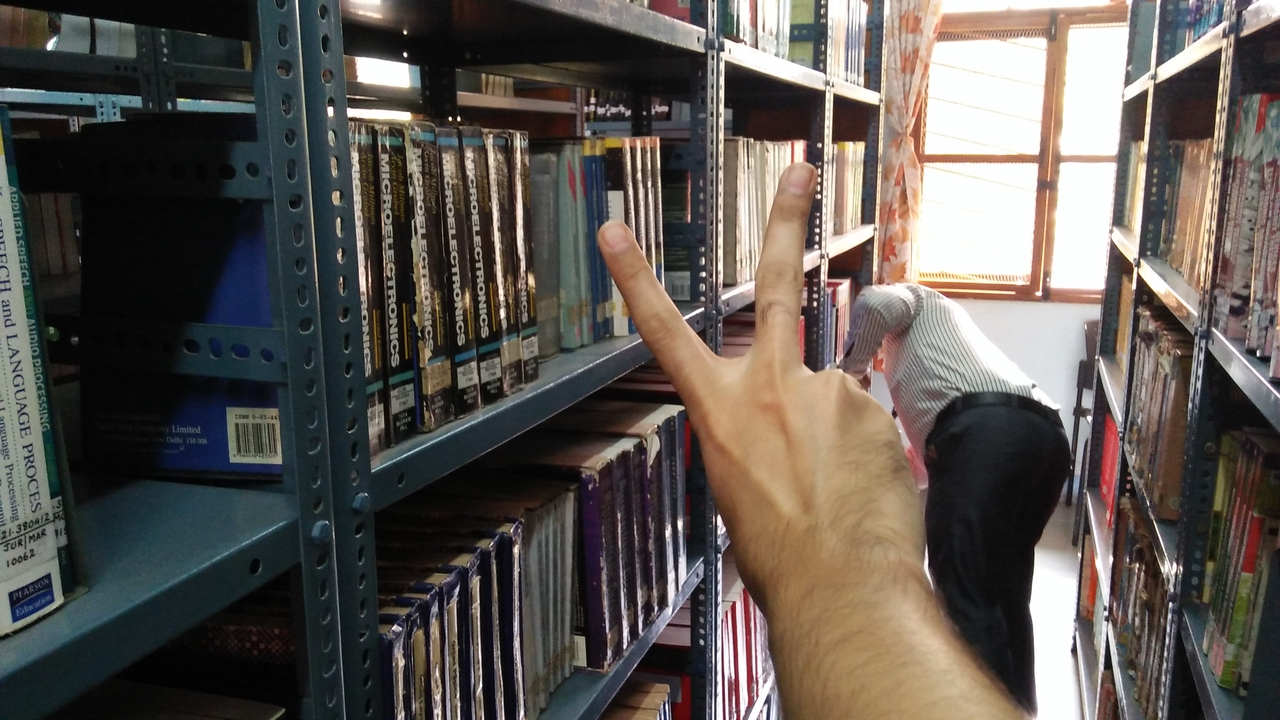fingertip: (586, 208, 642, 264), (772, 152, 820, 204)
